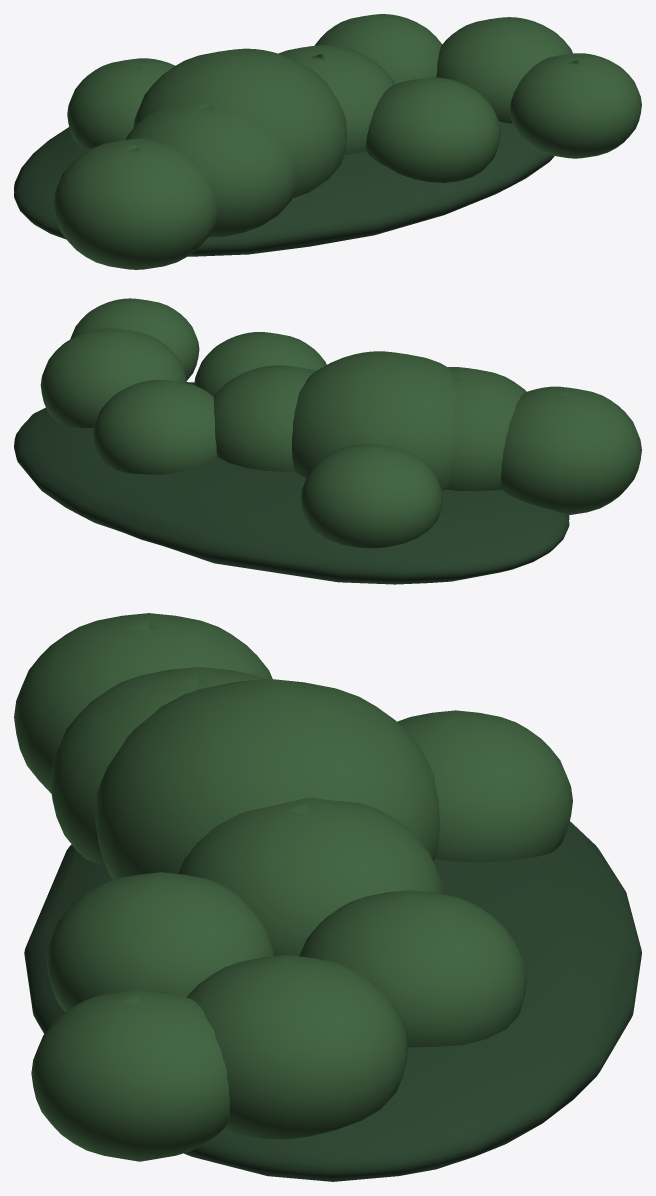
File: f11-hillside-wooded.glb
3 views of the same model, one above another, from view 1: azimuth 30°, elevation 25°; view 2: azimuth 150°, elevation 25°; view 3: azimuth 270°, elevation 25° (orthographic). The views are drawn at different scales.
Parts seen in each view (by area): view 1: part9, part0, part7, part8, part1, part5, part6, part2, part3, part4; view 2: part9, part7, part0, part2, part3, part6, part4, part8, part1, part5; view 3: part9, part7, part6, part5, part4, part3, part1, part2, part0, part8.
Boxes of the visible parts, x1,y1,x2,y2 form: part9: [14, 121, 554, 256]; part0: [53, 138, 217, 269]; part7: [133, 48, 347, 198]; part8: [126, 102, 297, 237]; part1: [366, 77, 500, 182]; part5: [510, 53, 641, 158]; part6: [436, 17, 572, 123]; part2: [67, 58, 174, 149]; part3: [315, 14, 442, 84]; part4: [278, 45, 395, 154]; part9: [14, 382, 569, 584]; part7: [292, 351, 456, 490]; part0: [501, 386, 641, 515]; part2: [300, 443, 442, 548]; part3: [93, 379, 217, 474]; part6: [40, 328, 186, 427]; part4: [213, 365, 316, 471]; part8: [447, 367, 526, 491]; part1: [194, 332, 326, 396]; part5: [70, 298, 199, 380]; part9: [24, 821, 641, 1181]; part7: [95, 678, 440, 879]; part6: [186, 955, 407, 1139]; part5: [31, 989, 229, 1161]; part4: [178, 797, 443, 956]; part3: [299, 890, 526, 1047]; part1: [46, 872, 273, 1011]; part2: [397, 710, 572, 862]; part0: [14, 613, 272, 793]; part8: [50, 667, 265, 865].
Size of the model in its own units: 89361 by 24940 by 52833.
